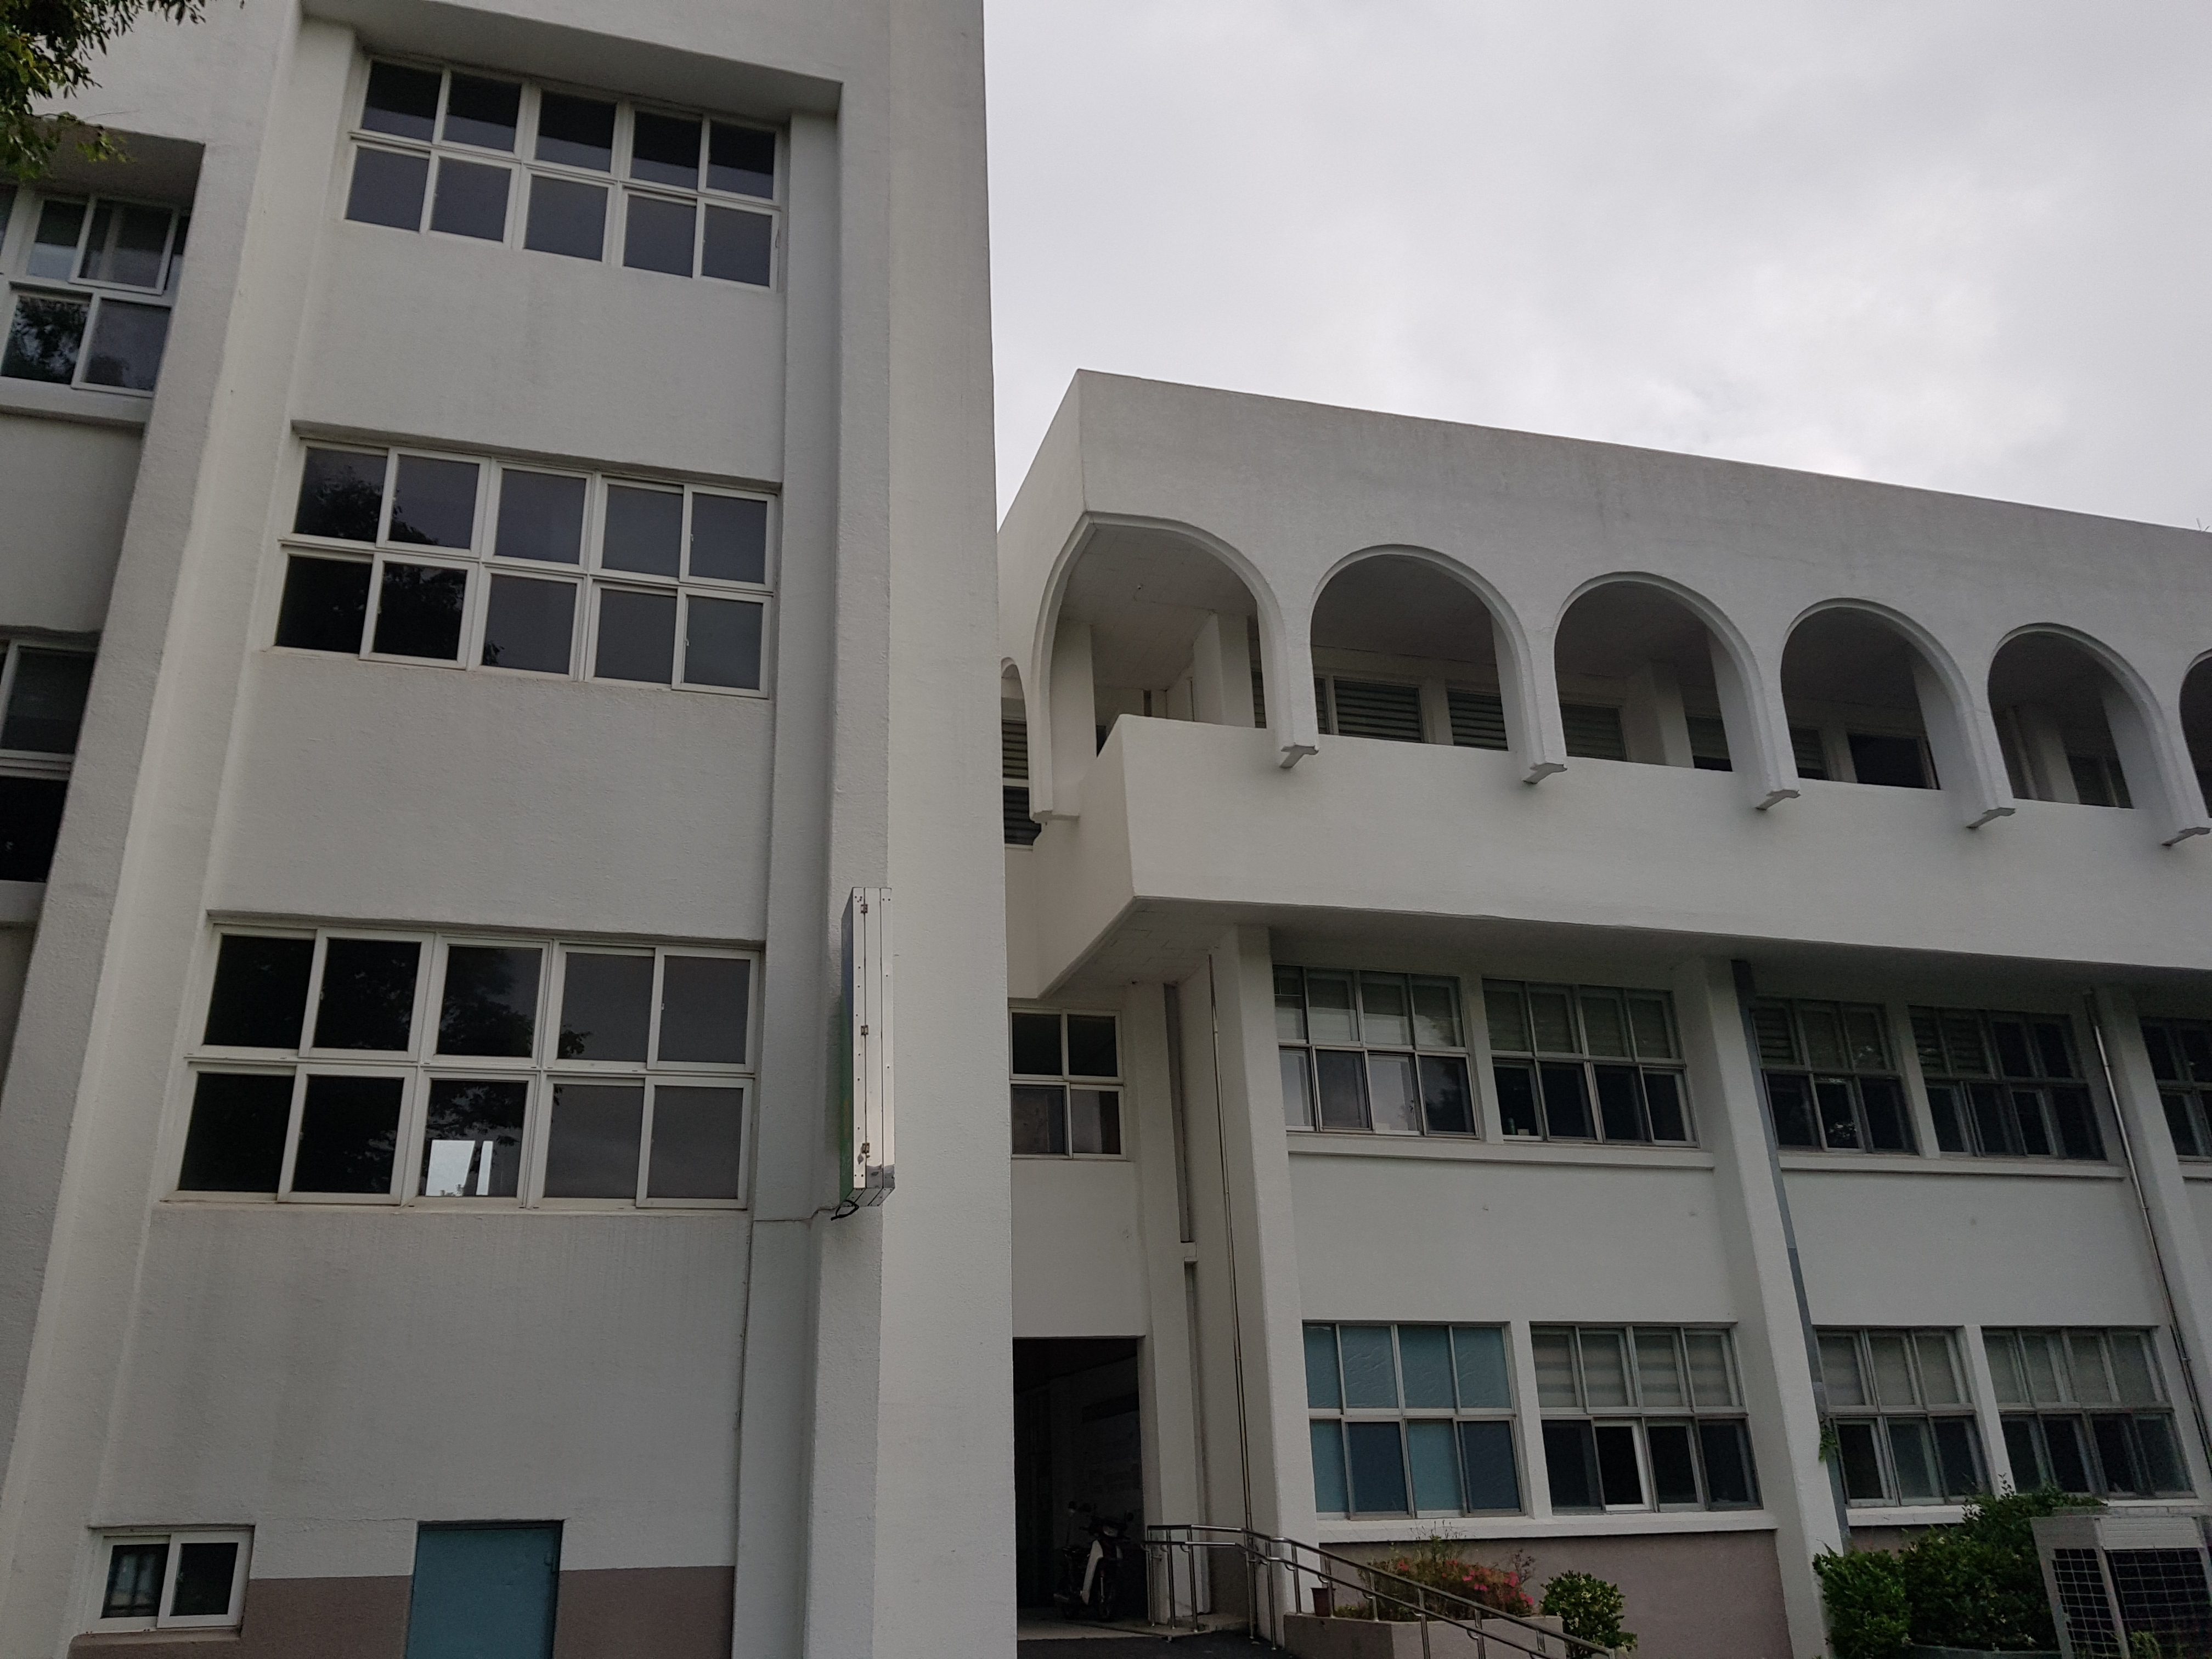Main Building of University: (30, 37, 2182, 1642), (1296, 537, 2188, 854)
